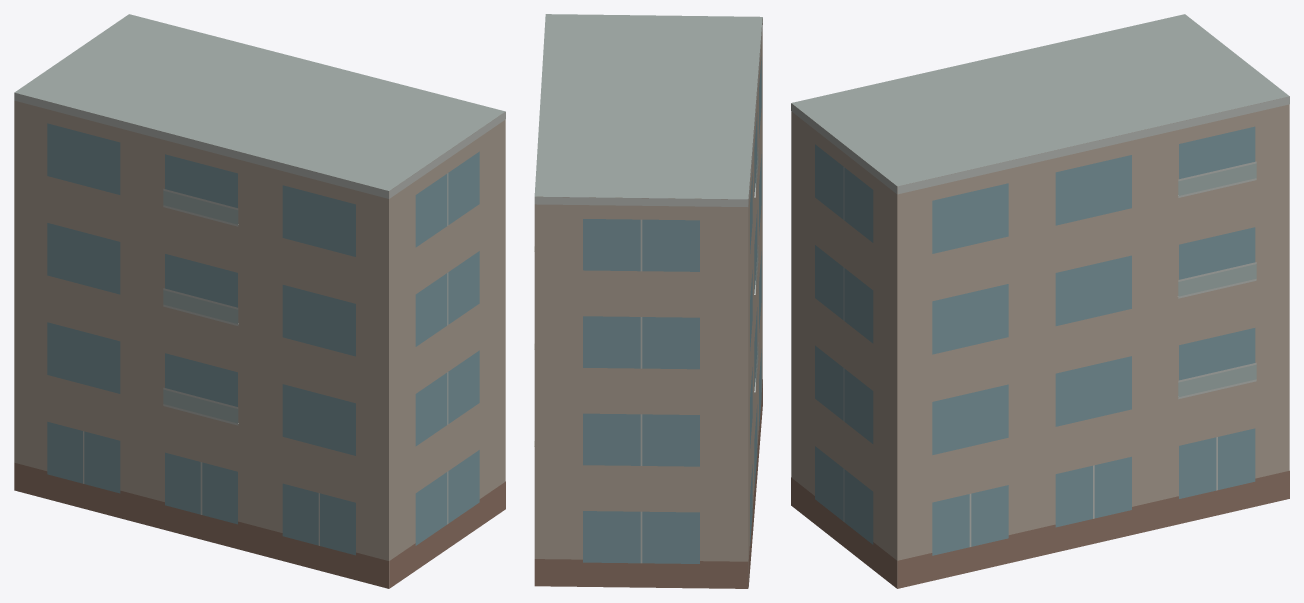
Rendered from survey-upis-33033863.glb.
3 views of the same model, side by side, from view 1: azimuth 30°, elevation 25°; view 2: azimuth 150°, elevation 25°; view 3: azimuth 270°, elevation 25° (orthographic). The views are drawn at different scales.
Parts seen in each view (by area): view 1: survey-upis-33033863.tmp; view 2: survey-upis-33033863.tmp; view 3: survey-upis-33033863.tmp.
Boxes of the visible parts, x1,y1,x2,y2 form: survey-upis-33033863.tmp: (14, 14, 505, 588); survey-upis-33033863.tmp: (534, 14, 762, 588); survey-upis-33033863.tmp: (791, 14, 1289, 588).
Size of the model in its own units: 11.22 by 12.2 by 13.71.
